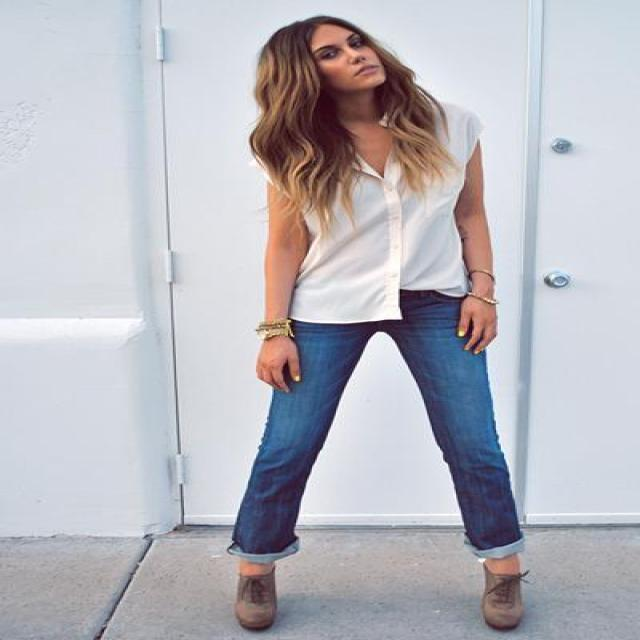pants: (227, 289, 517, 554)
shirt: (291, 94, 483, 322)
shoe: (232, 566, 528, 632)
